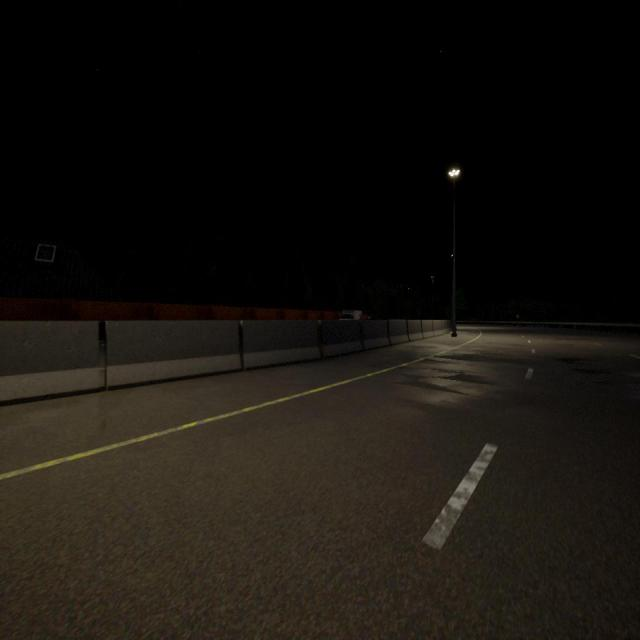Vehicle: (339, 310, 362, 320)
